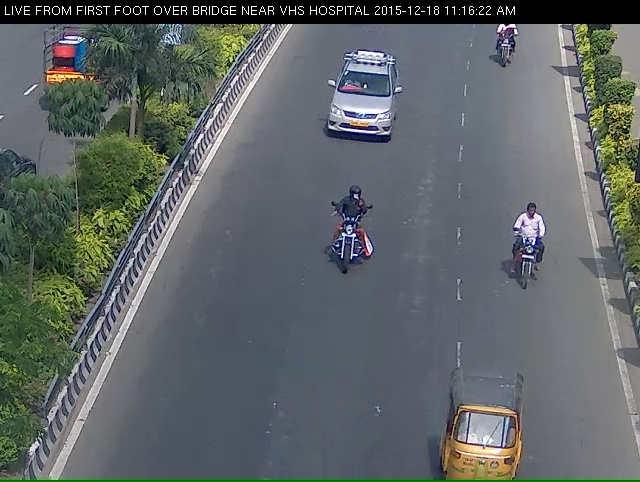Auto: (431, 393, 533, 479)
Car: (316, 55, 397, 152)
Person: (320, 196, 371, 296), (507, 216, 555, 301), (490, 24, 519, 77)
